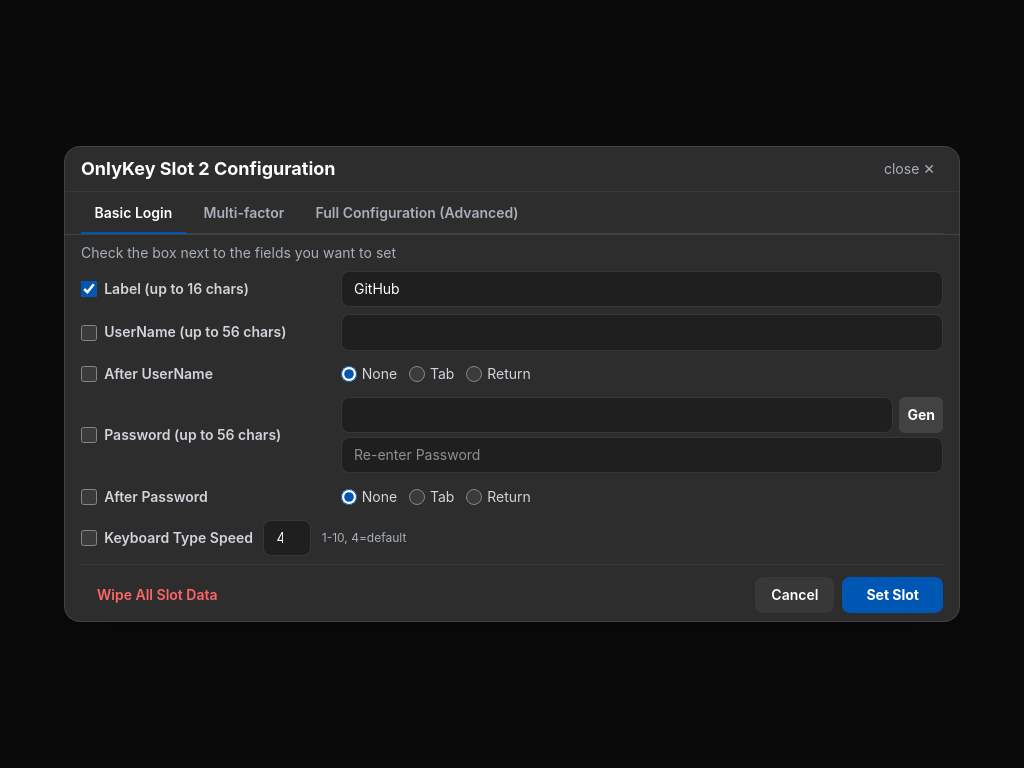
Test: SlotEditor › switches config mode tabs without filled CTA styling
Click the tab "Multi-factor" at {"x": 244, "y": 214}, box [190,194,298,234]
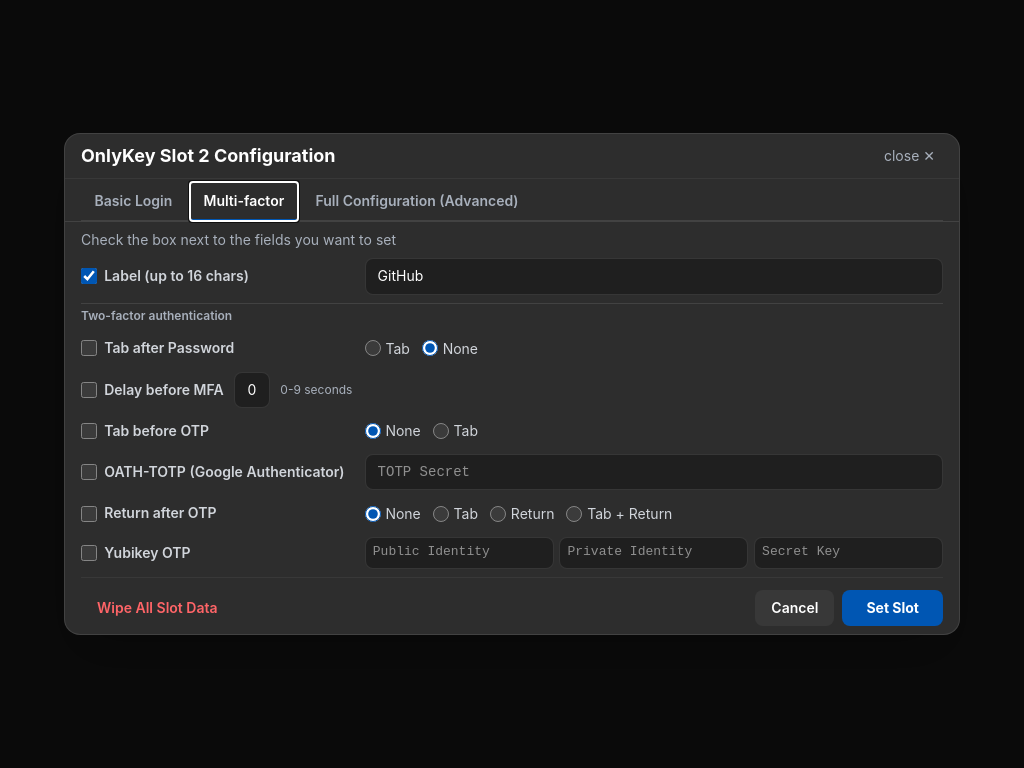
Result: the text "Two-factor authentication" is shown at [81,303,943,325]
